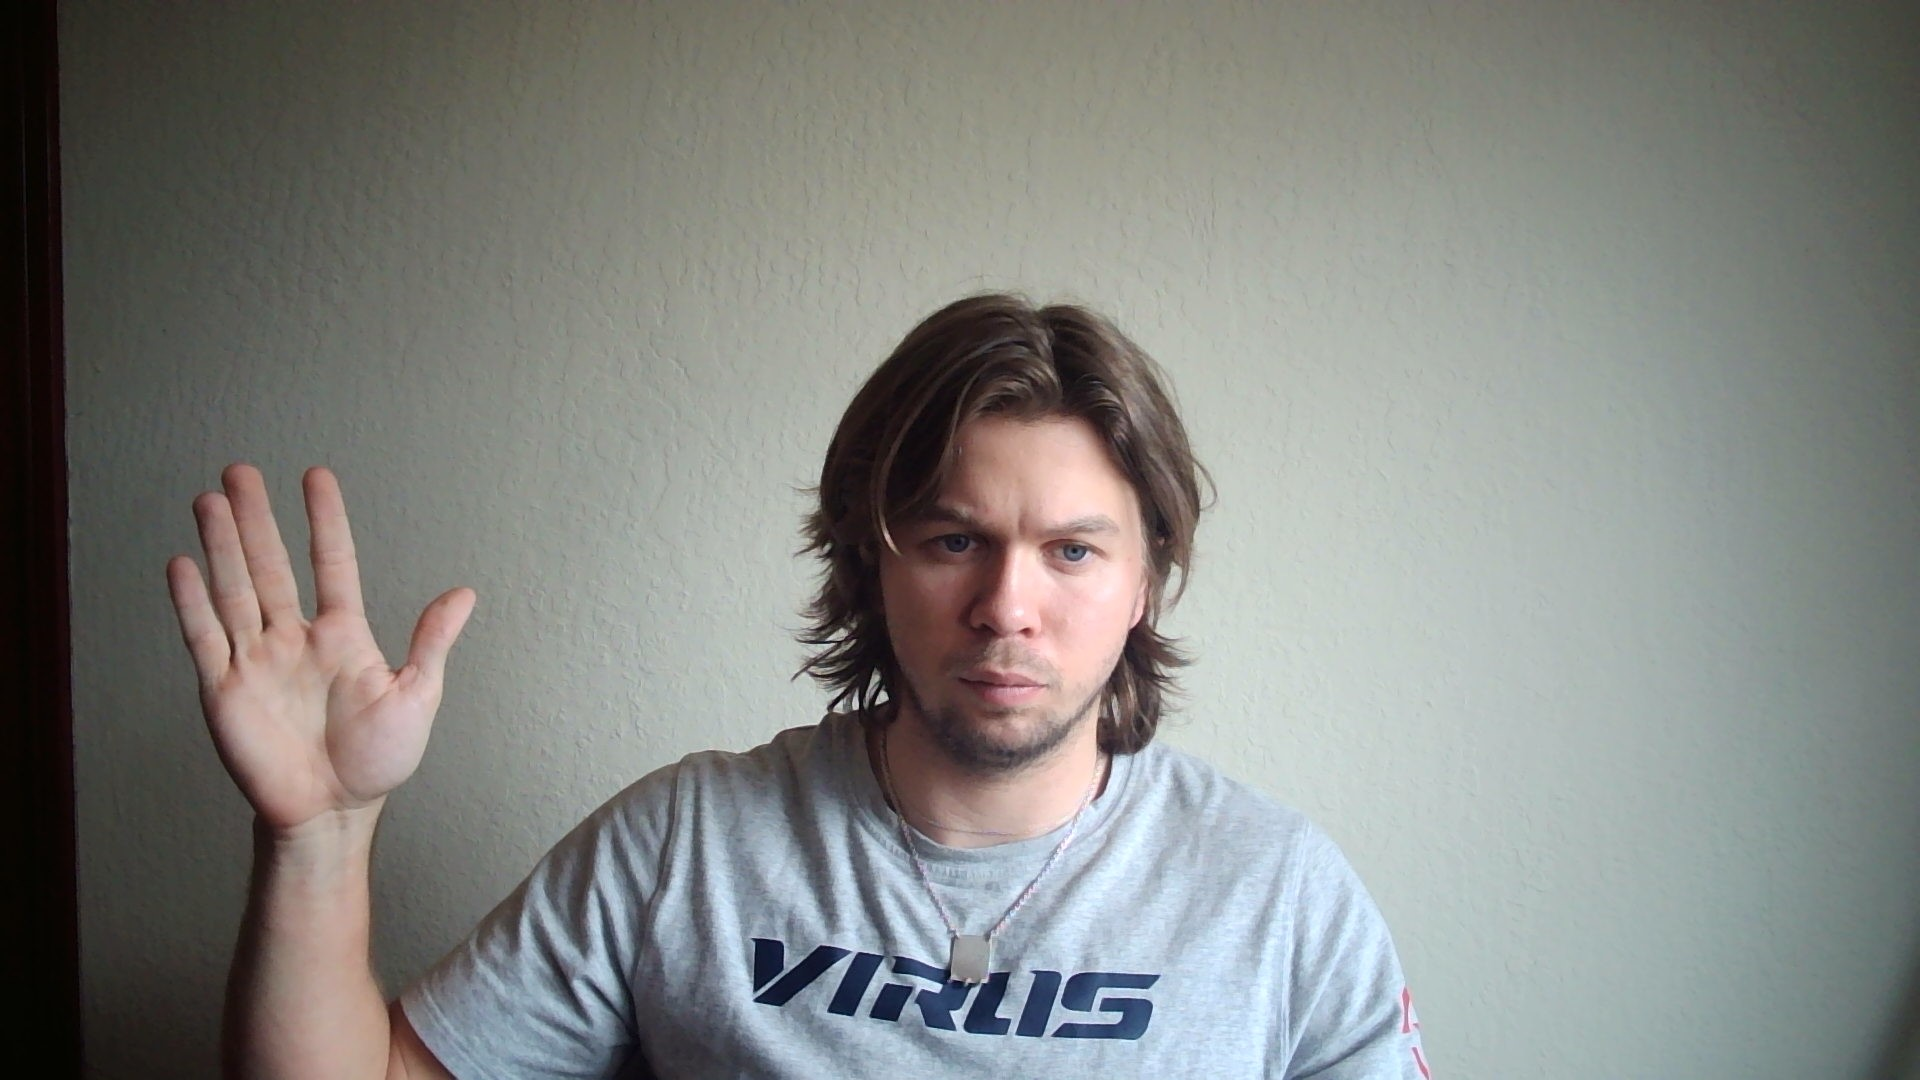hello: (164, 465, 476, 828)
